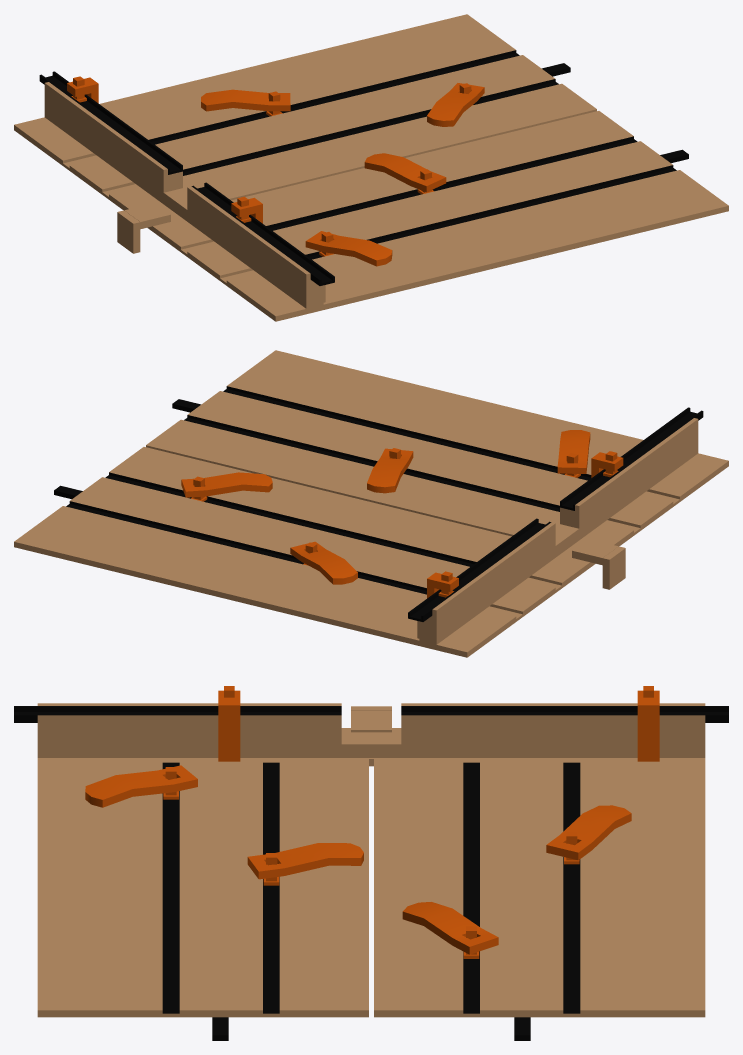
Rendered from tablesawjig.glb.
3 views of the same model, one above another, from view 1: azimuth 30°, elevation 25°; view 2: azimuth 150°, elevation 25°; view 3: azimuth 270°, elevation 25° (orthographic). The views are drawn at different scales.
Visible parts, largest first — view 1: Base, HoldDown3, HoldDown1, HoldDown2, HoldDown4, StopBlock2, StopBlock, FenceFlipStop2, FenceFlipStop1; view 2: Base, HoldDown4, HoldDown3, HoldDown2, HoldDown1, StopBlock2, StopBlock, FenceFlipStop1, FenceFlipStop2; view 3: Base, HoldDown2, HoldDown1, HoldDown4, HoldDown3, FenceFlipStop1, FenceFlipStop2, StopBlock.
Part boxes in pixels (x1,y1,x2,y2): Base: (14,14,728,321); HoldDown3: (201,89,290,116); HoldDown1: (305,231,392,266); HoldDown2: (364,153,446,194); HoldDown4: (427,83,484,126); StopBlock2: (117,210,140,253); StopBlock: (124,203,170,229); FenceFlipStop2: (67,76,98,103); FenceFlipStop1: (231,196,262,223); Base: (14,350,728,657); HoldDown4: (181,472,272,501); HoldDown3: (290,541,357,584); HoldDown2: (367,448,413,493); HoldDown1: (557,430,590,477); StopBlock2: (602,546,625,589); StopBlock: (572,539,618,565); FenceFlipStop1: (591,451,623,477); FenceFlipStop2: (427,571,458,598); Base: (14,703,728,1040); HoldDown2: (247,843,363,885); HoldDown1: (85,765,197,807); HoldDown4: (402,902,498,958); HoldDown3: (546,805,631,864); FenceFlipStop1: (218,686,240,761); FenceFlipStop2: (637,686,659,761); StopBlock: (351,711,391,732).
Size of the model in its own units: 3.15 by 0.4469 by 3.05.
